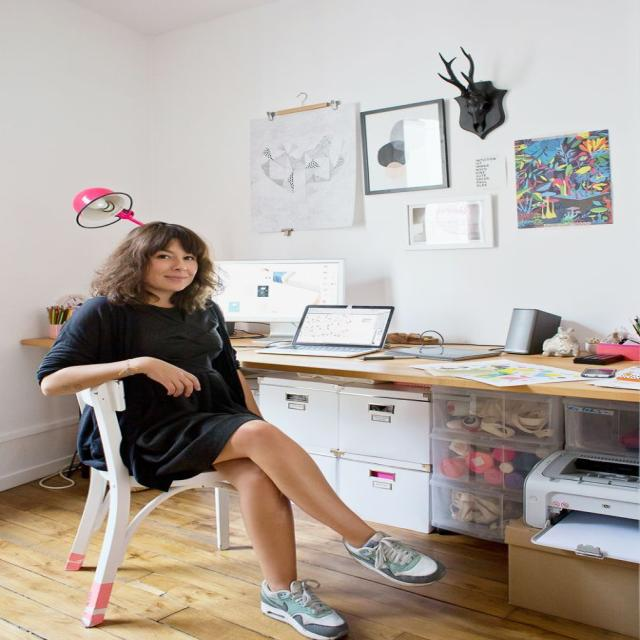obstacle: (63, 367, 264, 627)
person: (35, 221, 447, 639)
